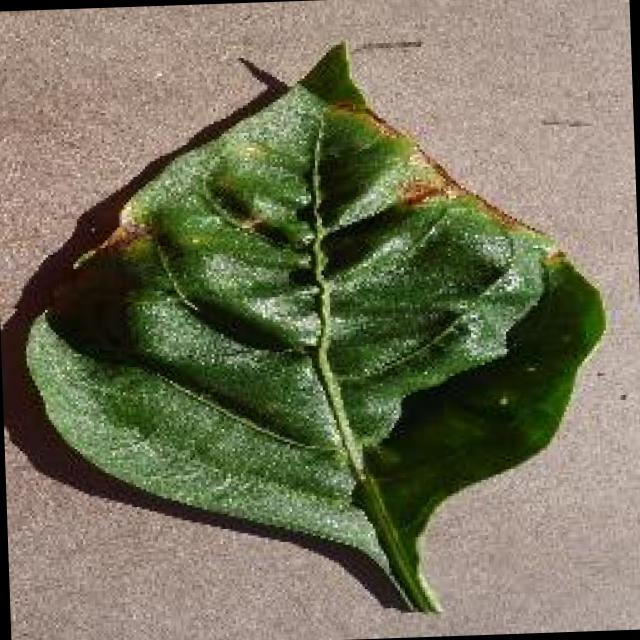Chilli_Bacterial_Spot: (8, 28, 618, 628), (64, 216, 152, 274), (202, 170, 272, 242), (395, 176, 446, 210), (233, 209, 270, 238), (485, 386, 516, 417), (538, 242, 570, 270)
